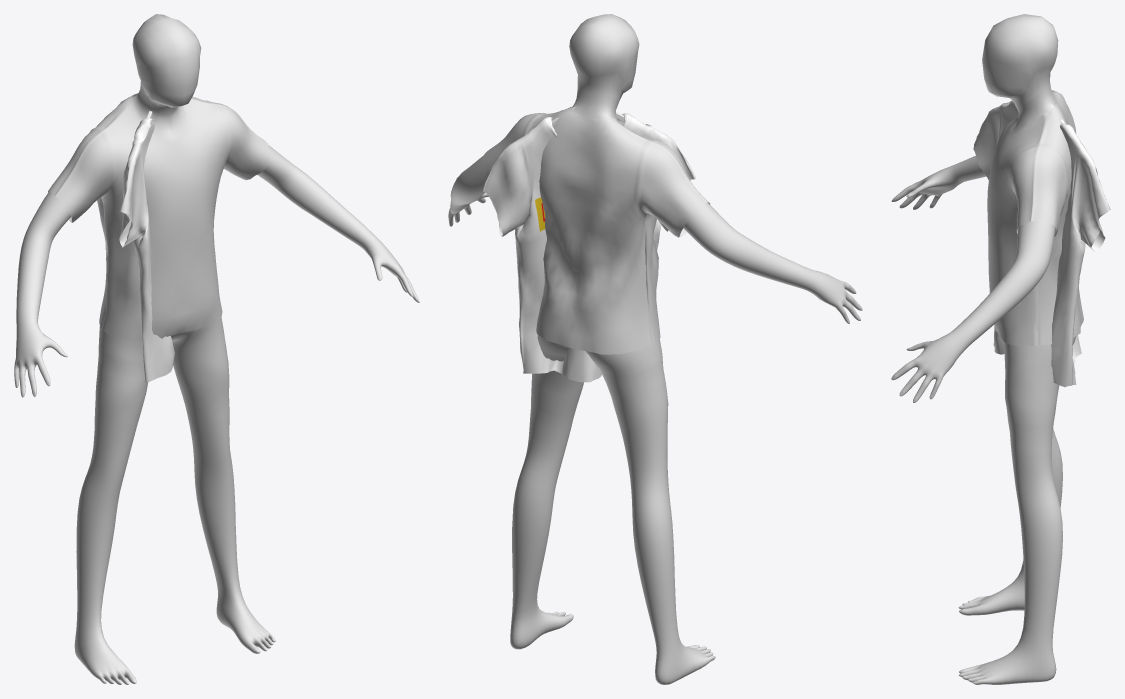
File: shirttutorial.glb
The picture shows the model from 3 angles, left to right: view 1: azimuth 30°, elevation 25°; view 2: azimuth 150°, elevation 25°; view 3: azimuth 270°, elevation 25°; orthographic projection. The views are drawn at different scales.
Visible parts, largest first — view 1: character__Cube, Plane, shirt; view 2: character__Cube, Plane, shirt; view 3: character__Cube, Plane, shirt.
Part boxes in pixels (bbox=[...]): character__Cube: bbox=[14, 14, 419, 684]; Plane: bbox=[48, 93, 270, 341]; shirt: bbox=[119, 117, 174, 382]; character__Cube: bbox=[448, 14, 862, 684]; Plane: bbox=[483, 107, 710, 354]; shirt: bbox=[482, 113, 696, 382]; character__Cube: bbox=[891, 14, 1076, 684]; Plane: bbox=[987, 90, 1083, 346]; shirt: bbox=[973, 100, 1110, 387].
Size of the model in its own units: 8.39 by 12.7 by 4.02.
4 materials, 1 textured.
